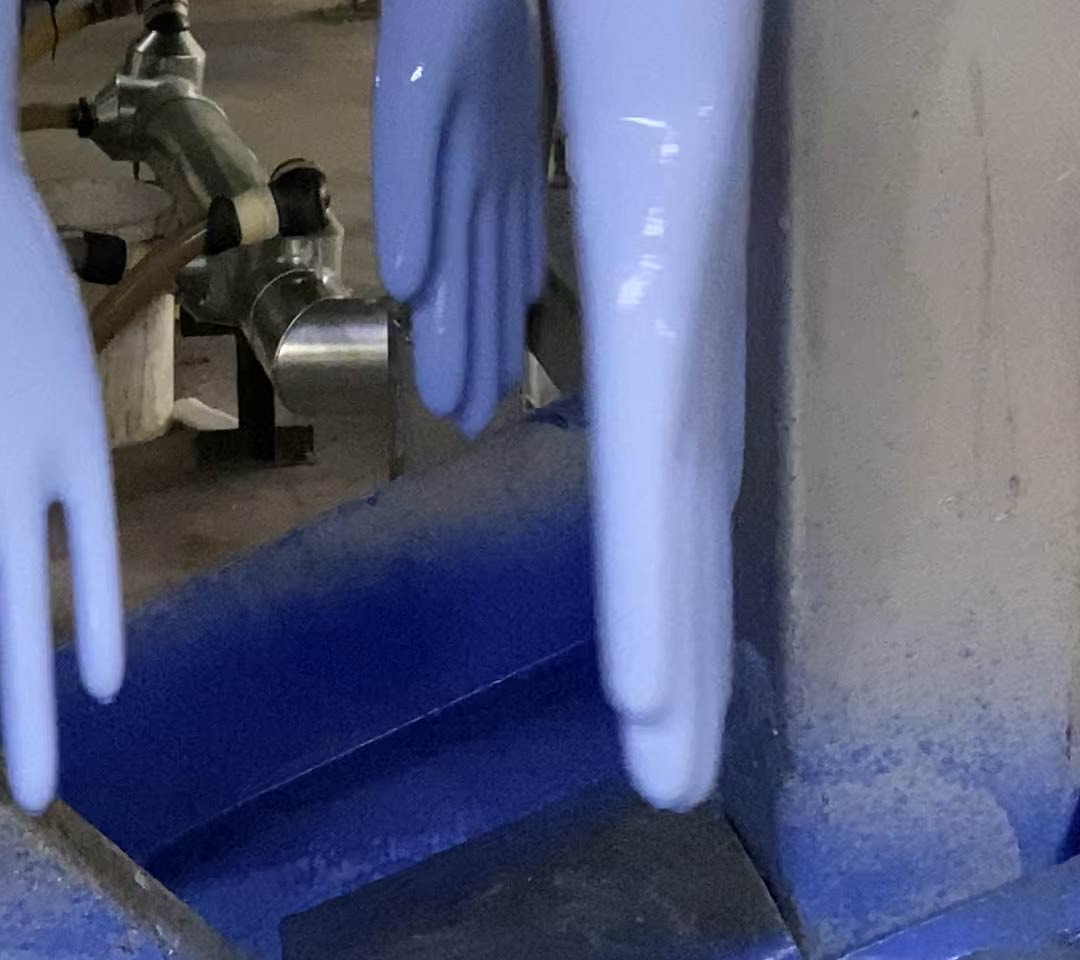glove: (552, 1, 764, 822), (373, 1, 545, 438)
